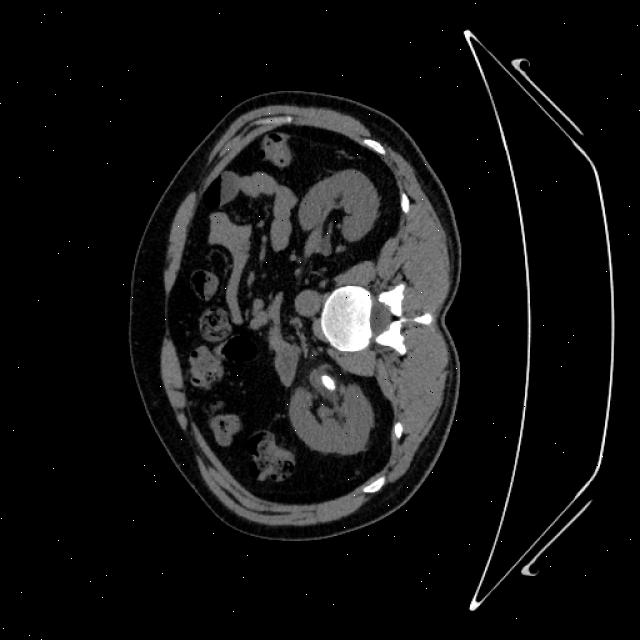kidneystone: (321, 374, 336, 390)
